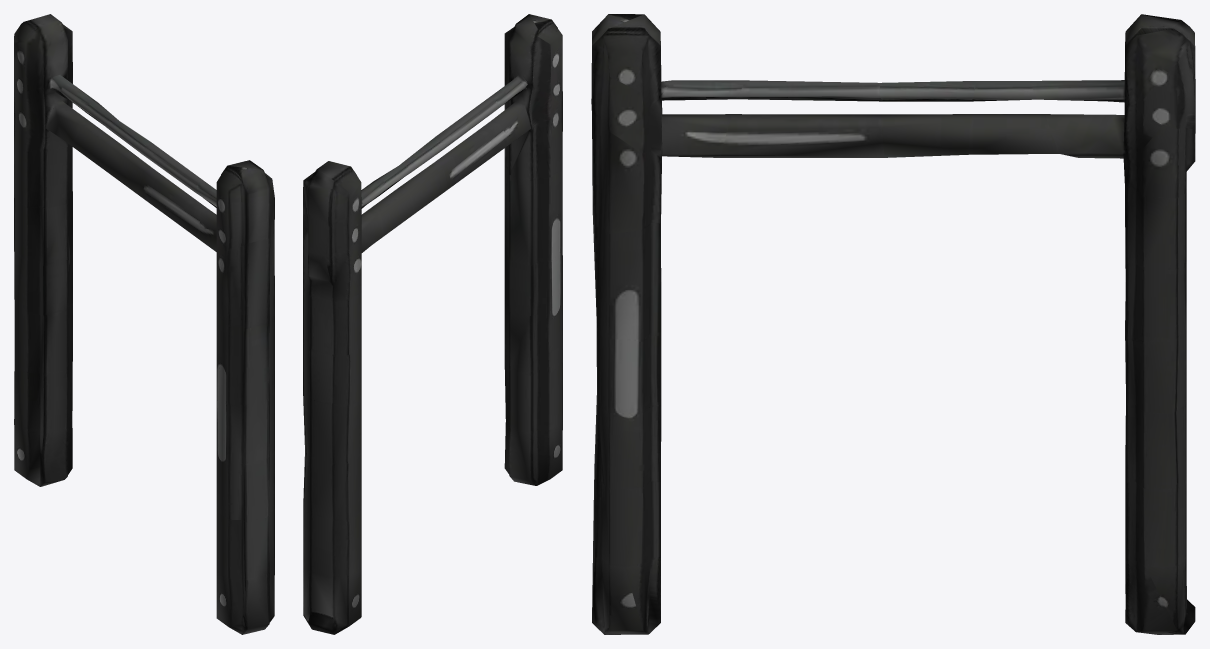
Rendered from pullup-rig.glb.
3 renders of one model, left to right at view 1: azimuth 30°, elevation 25°; view 2: azimuth 150°, elevation 25°; view 3: azimuth 270°, elevation 25°, orthographic. The views are drawn at different scales.
Visible parts, largest first — view 1: tripo_node_f7da74bf-2443-4e54-ab02-8f8f173a5ce0; view 2: tripo_node_f7da74bf-2443-4e54-ab02-8f8f173a5ce0; view 3: tripo_node_f7da74bf-2443-4e54-ab02-8f8f173a5ce0.
Part boxes in pixels (x1,y1,x2,y2): tripo_node_f7da74bf-2443-4e54-ab02-8f8f173a5ce0: (14,14,274,634); tripo_node_f7da74bf-2443-4e54-ab02-8f8f173a5ce0: (303,14,562,634); tripo_node_f7da74bf-2443-4e54-ab02-8f8f173a5ce0: (591,14,1195,634).
Bounding box in the file's own units: 0.106 × 0.9996 × 0.9025.
1 material, 1 textured.
